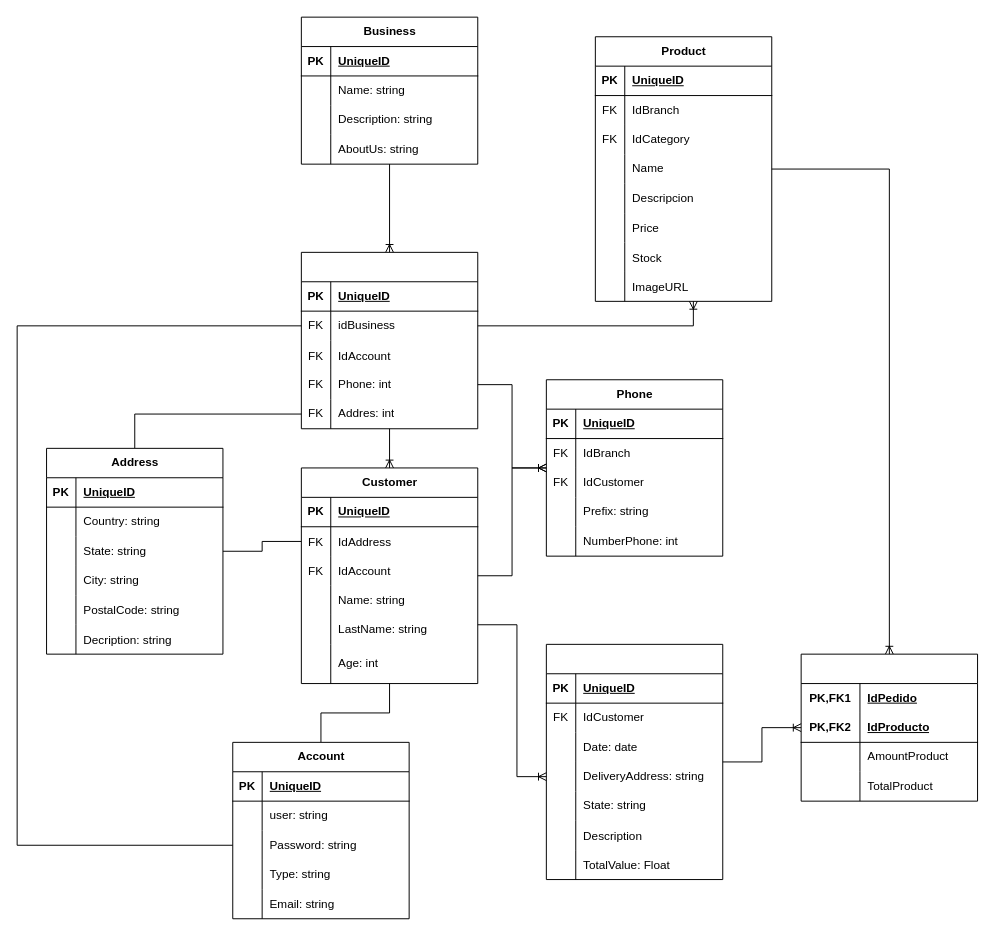
The diagram is 995 pixels wide and 936 high, and some of its shapes have lost their labels. The box of each missing label's shape, as (x1, y1, x2, y2) in pixels:
Branch: (300, 251, 478, 429)
Order: (545, 643, 723, 880)
OrderDetail: (800, 653, 978, 801)
